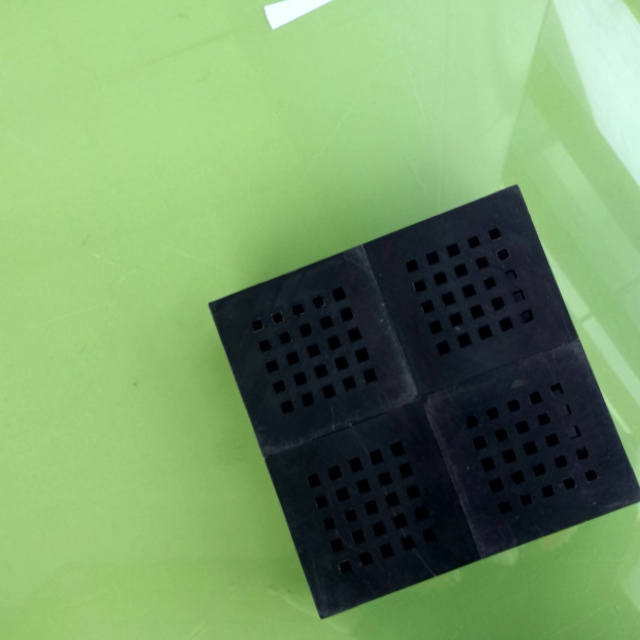pallet: (197, 173, 637, 628)
